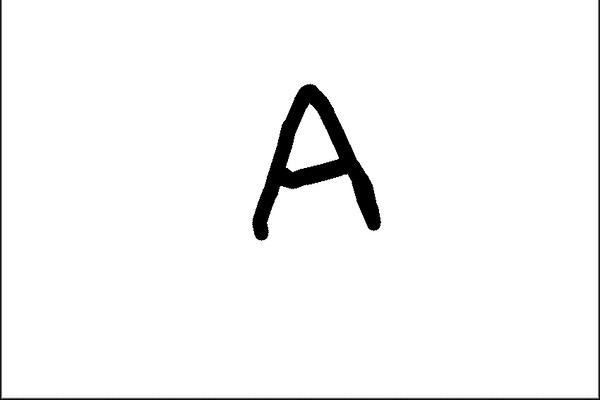A: (241, 78, 387, 240)
